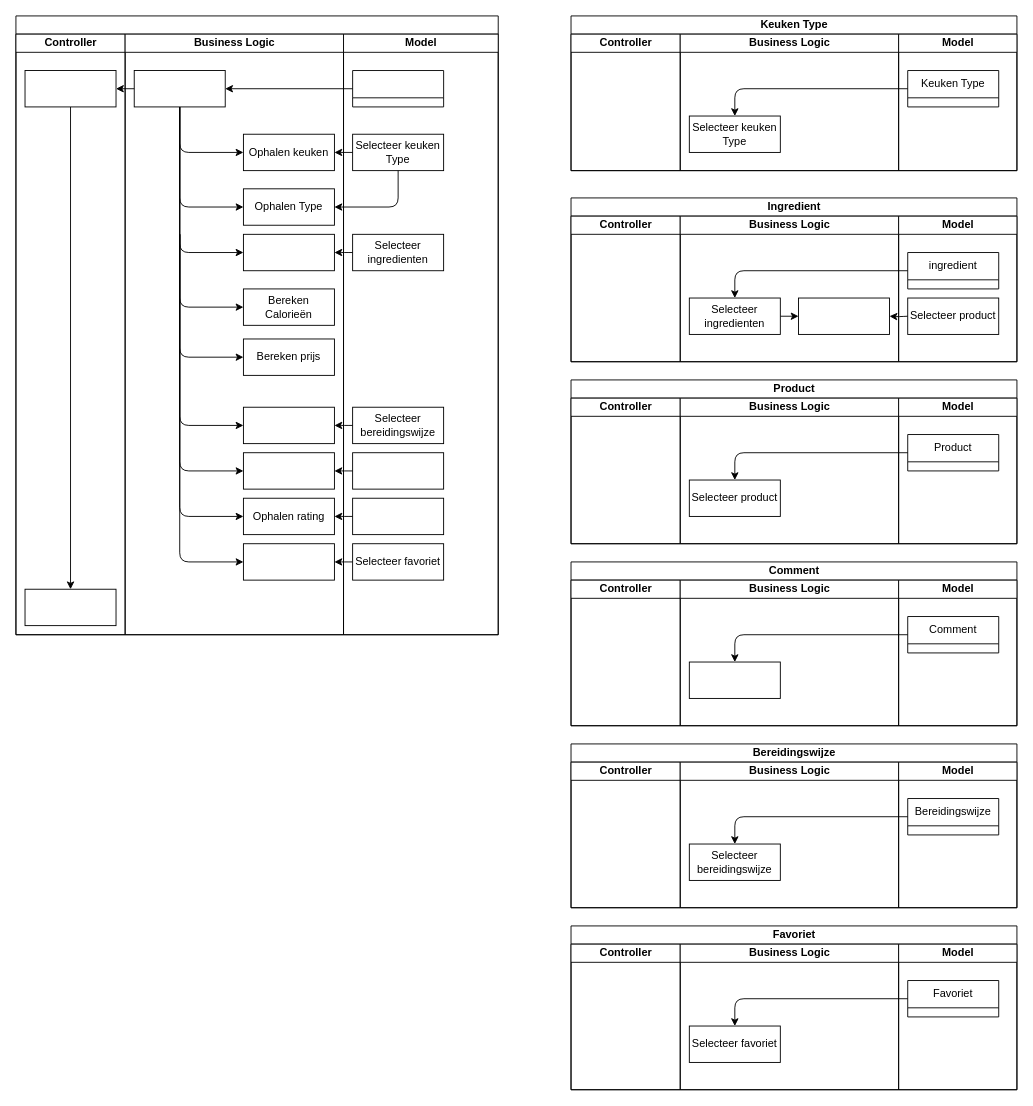
Image size: 1033x1106. Some labels were removed from this diagram. Here are the shapes that lost their labels. From the top down, the box of each, then its label:
(24, 70, 116, 107): ophalen detailpagina
(133, 70, 225, 107): Ophalen Gerecht
(352, 70, 444, 107): Gerecht
(243, 233, 334, 271): Ophalen ingredienten
(798, 297, 890, 334): Ophalen product
(243, 406, 334, 444): Ophalen bereidingswijze
(243, 452, 334, 489): Ophalen comments
(352, 452, 444, 489): Selecteer comment
(352, 497, 444, 535): Selecteer rating
(243, 543, 334, 580): Ophalen favoriet
(24, 588, 116, 626): HTML
(688, 661, 780, 698): Selecteer comments
